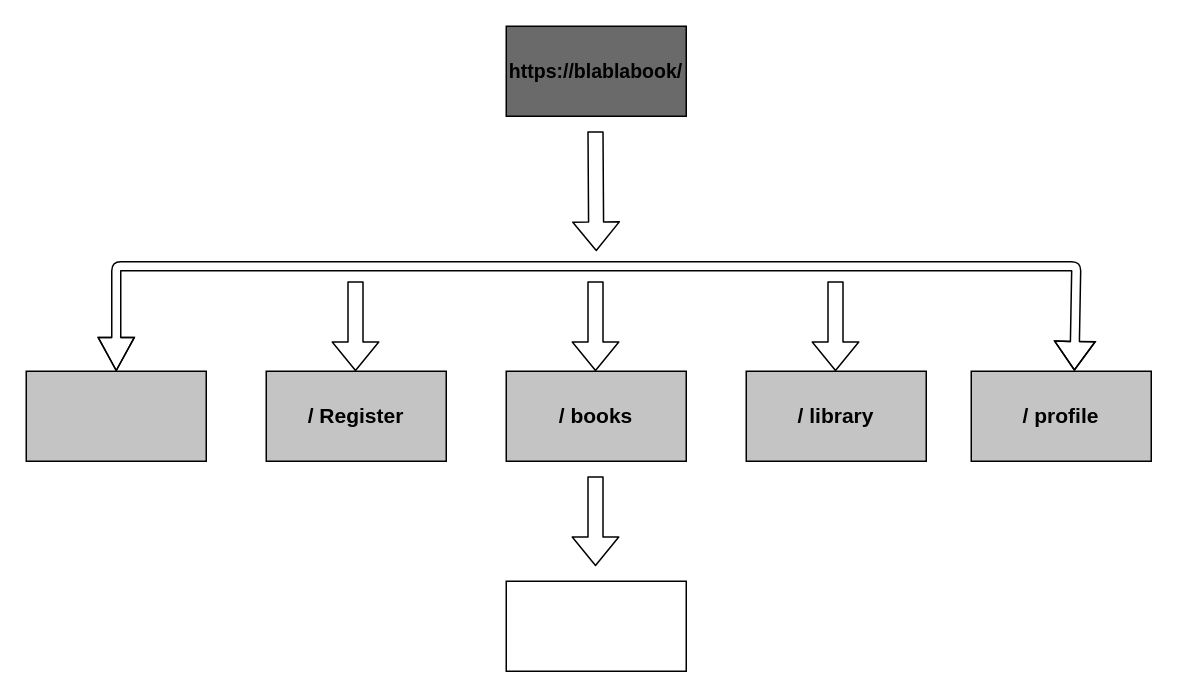
The diagram is 1178 pixels wide and 698 high, and some of its shapes have lost their labels. Each missing label, with the centre of its shape:
"/ book / : id" goes at point (595, 625).
"/ login" goes at point (115, 415).
